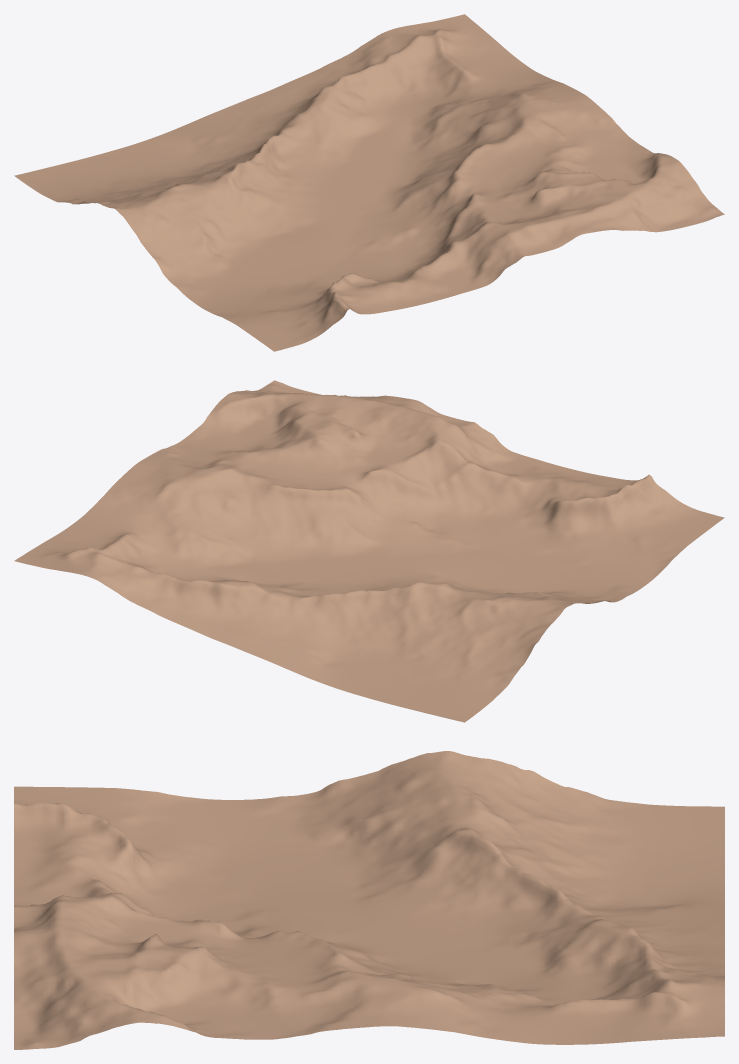
The picture shows the model from 3 angles, top to bottom: view 1: azimuth 30°, elevation 25°; view 2: azimuth 150°, elevation 25°; view 3: azimuth 270°, elevation 25°; orthographic projection. The views are drawn at different scales.
Parts seen in each view (by area): view 1: DM_lod_3; view 2: DM_lod_3; view 3: DM_lod_3.
Boxes of the visible parts, x1,y1,x2,y2 form: DM_lod_3: (14, 14, 724, 351); DM_lod_3: (14, 380, 724, 722); DM_lod_3: (14, 751, 724, 1049).
Size of the model in its own units: 300 by 39.42 by 300.
